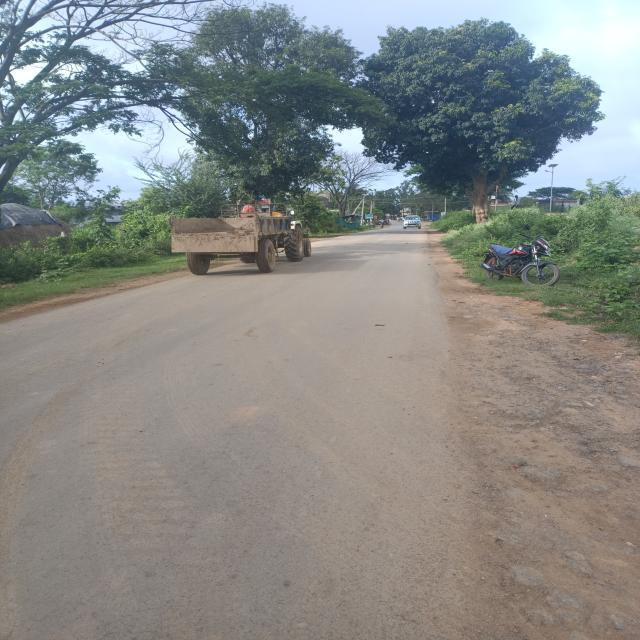car_front: (398, 210, 428, 234)
tractor_back: (162, 194, 318, 280)
two_wheeler_front: (470, 230, 560, 292)
